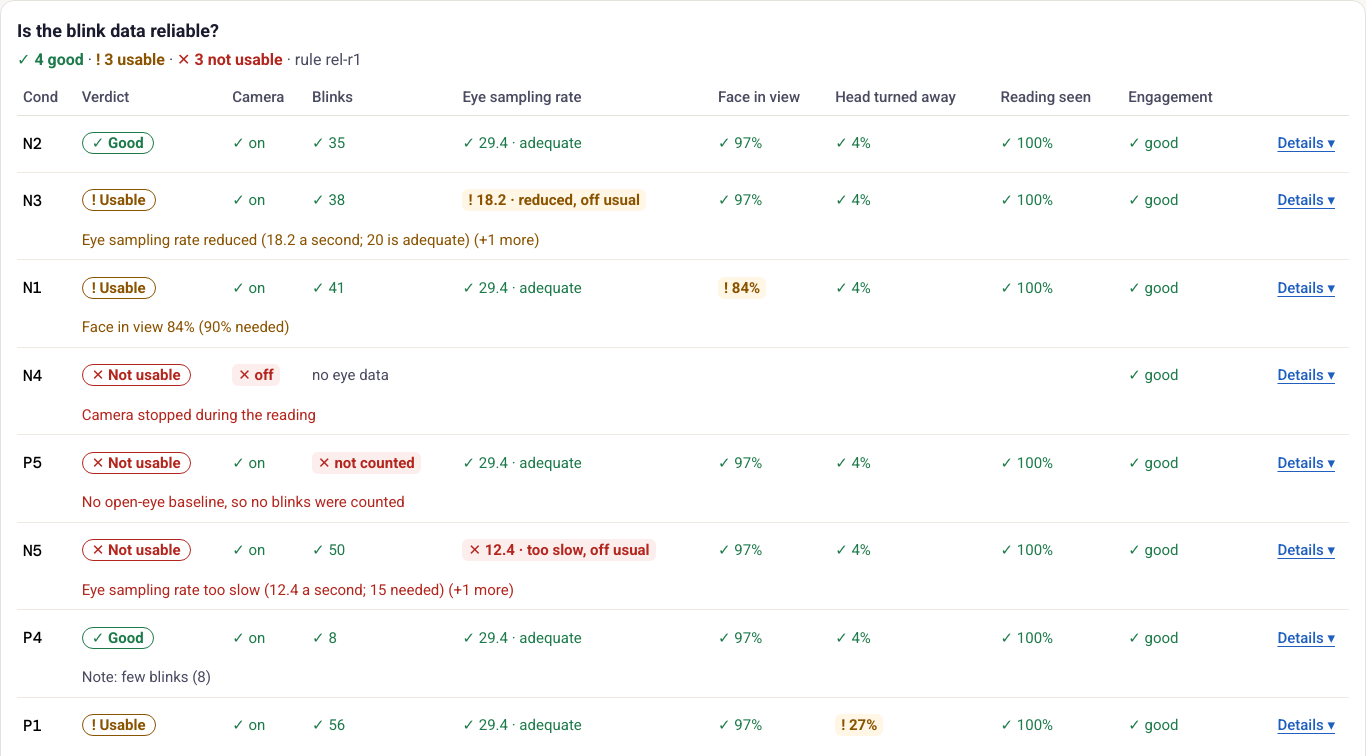
each condition is one line: the verdict, a status per check, and the reason › keeps every check, its rule and what the analysis does behind Details, one tap away
The image size is (1366, 756).
What coordinates should you click on to do the following:
click the button "Details ▾" in the row of "N3"
I would click on:
 (1306, 200)
Its box is x1=1270 y1=178 x2=1343 y2=222.
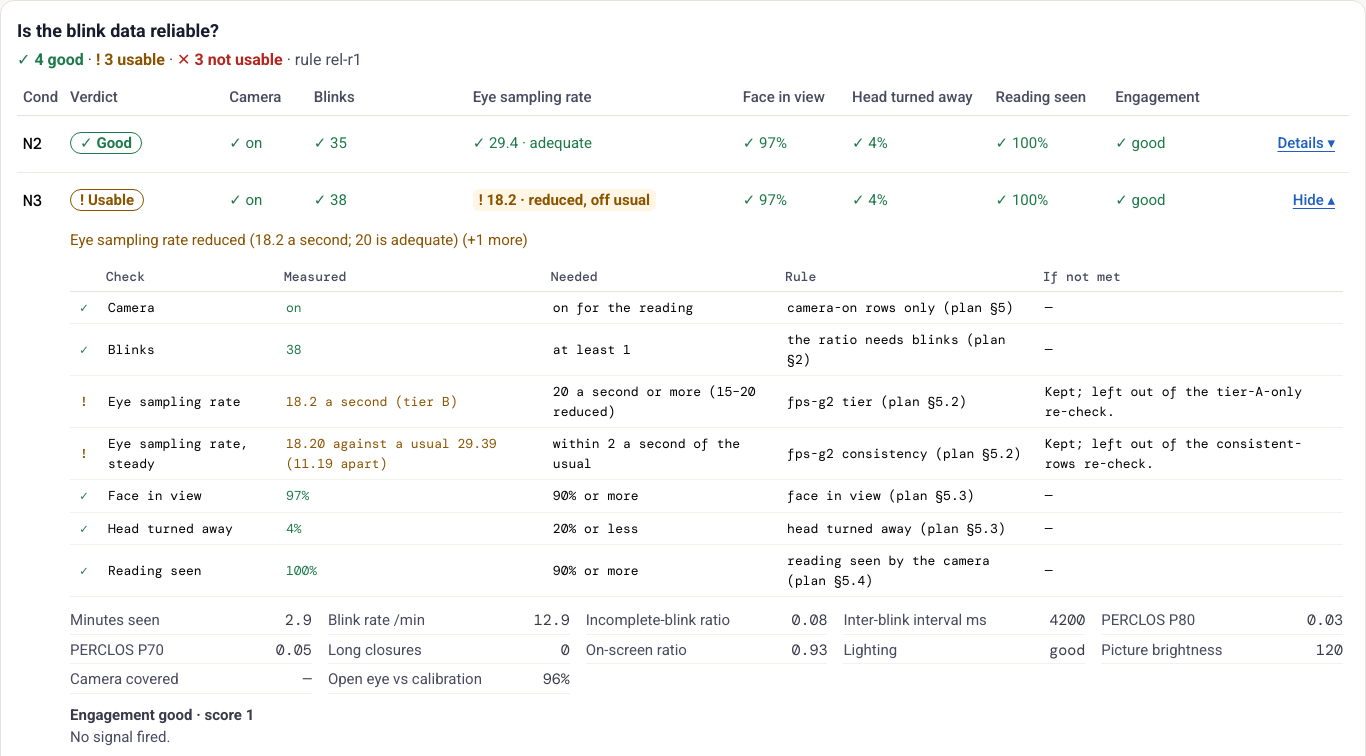
Expected: the element with test id "condition-details" shows "camera-on rows only (plan §5)", x1=787 y1=298 x2=1013 y2=316
Expected: the element with test id "condition-details" shows "on for the reading", x1=553 y1=298 x2=693 y2=316
Expected: the element with test id "condition-details" shows "the ratio needs blinks (plan §2)", x1=787 y1=331 x2=1006 y2=368
